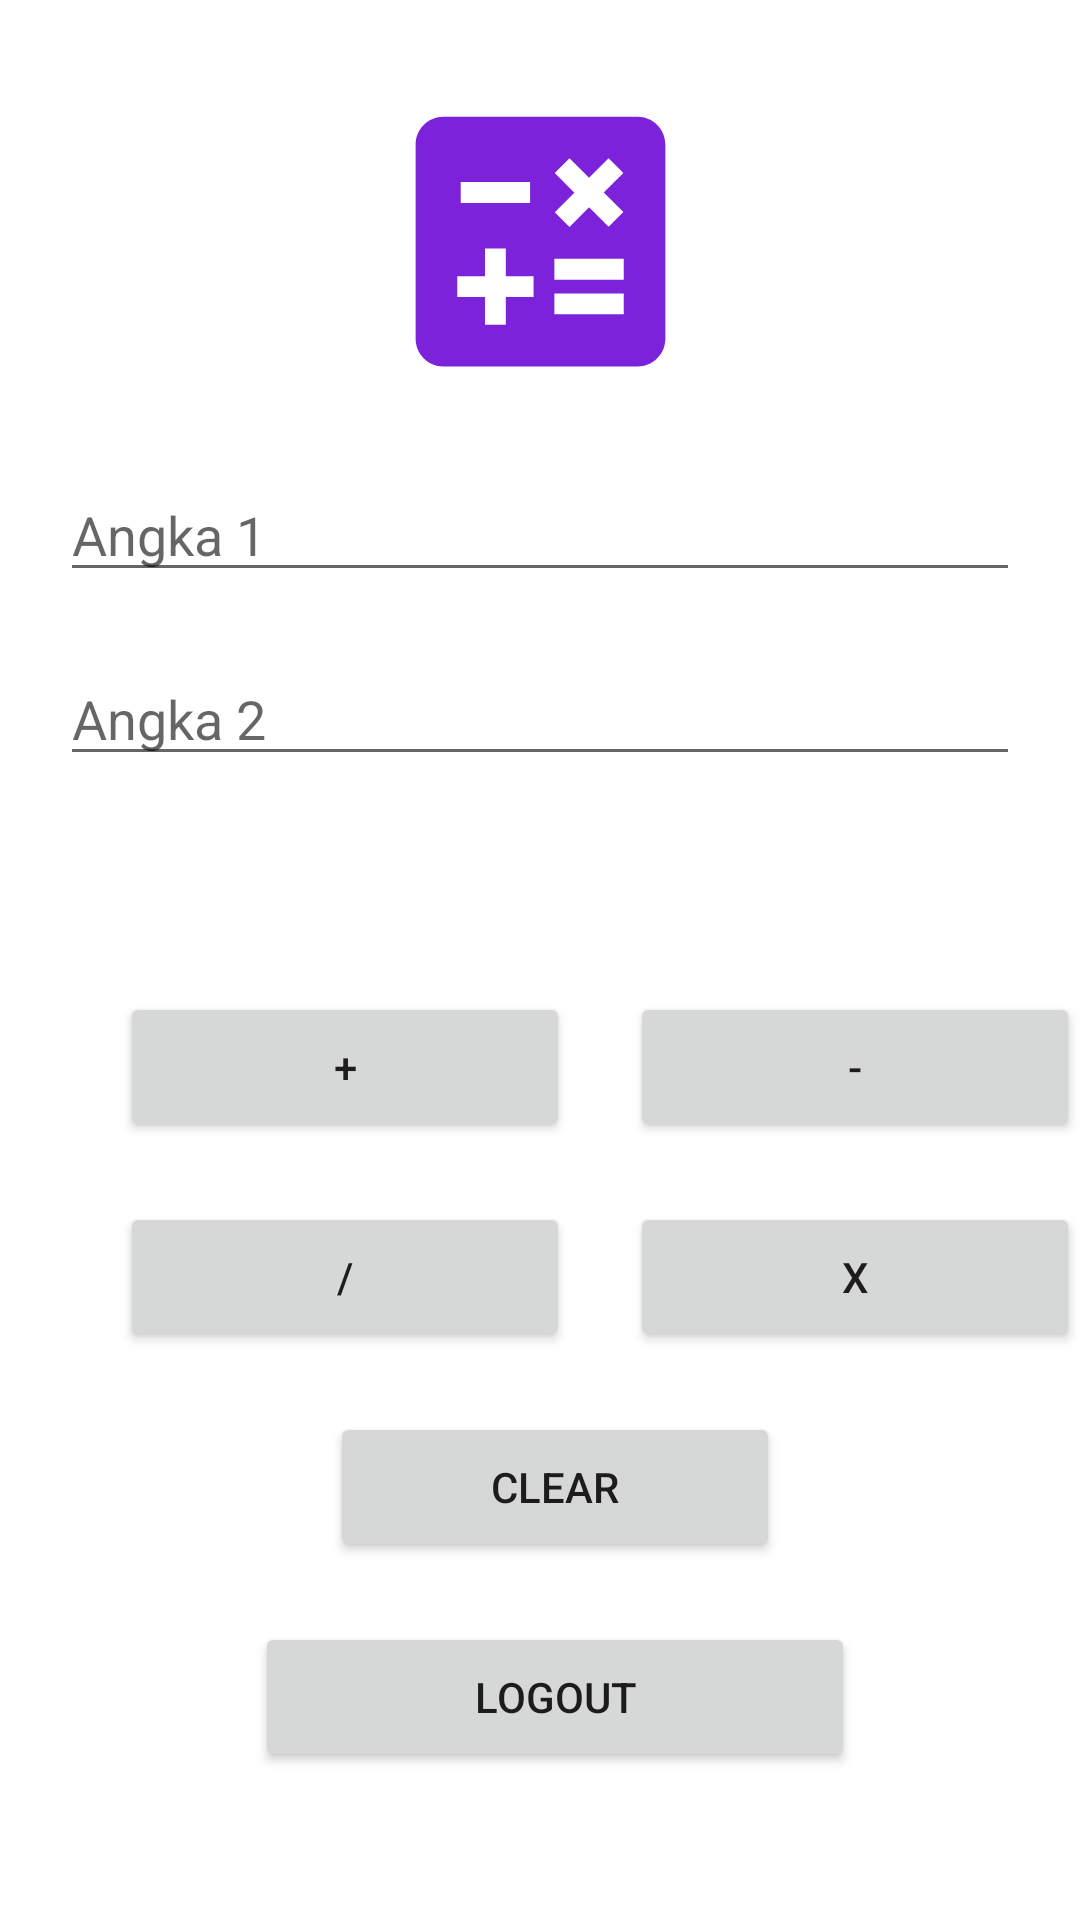

Where icons sit on this 1080px×1920px app screen, as [x1,y1,x2,y2]:
calculate: [415,116,666,367]
